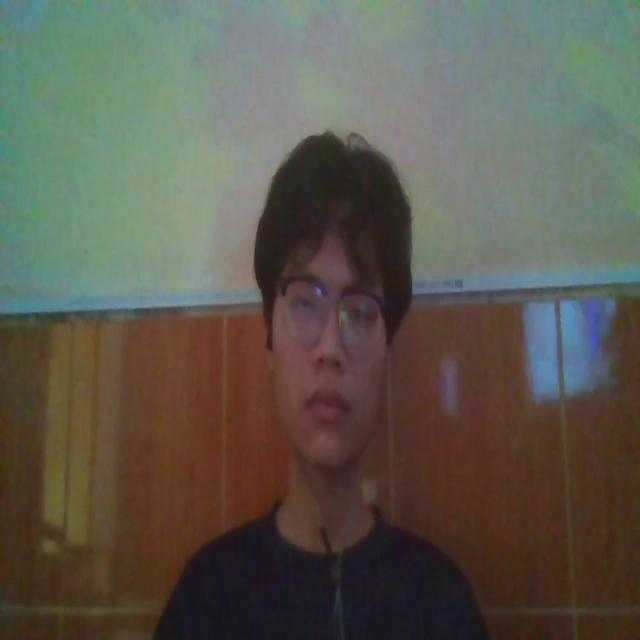student: (151, 126, 495, 640)
